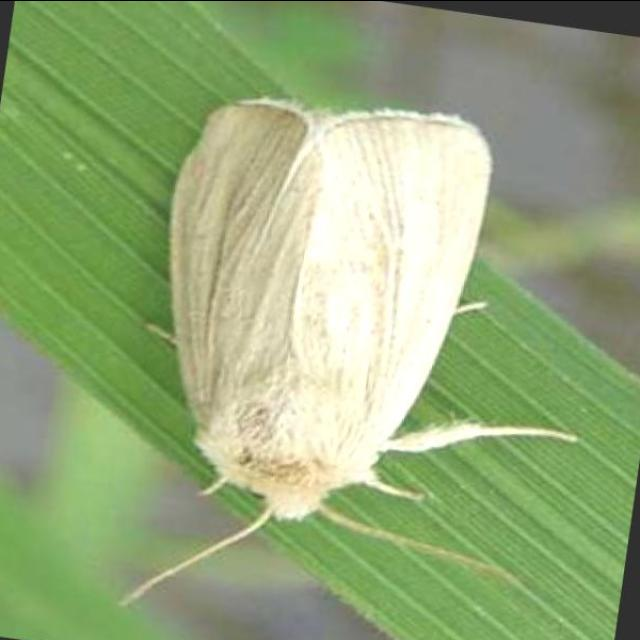stem borer: (123, 96, 549, 597)
